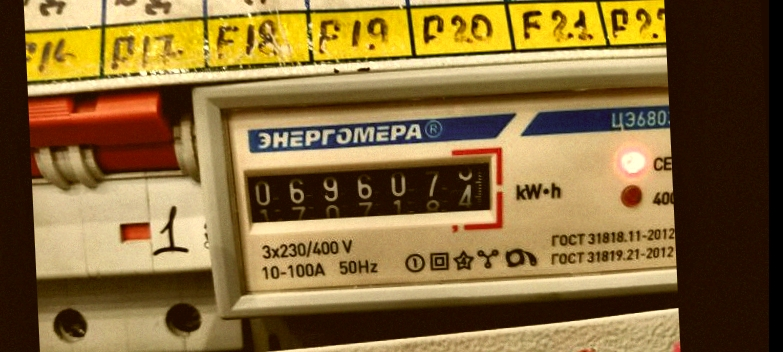0: (387, 167, 407, 198), (253, 178, 271, 207)
4: (455, 179, 473, 209)
6: (354, 170, 373, 200), (287, 175, 305, 204)
7: (421, 167, 442, 199)
9: (320, 174, 339, 202)
screen: (230, 143, 510, 240)
